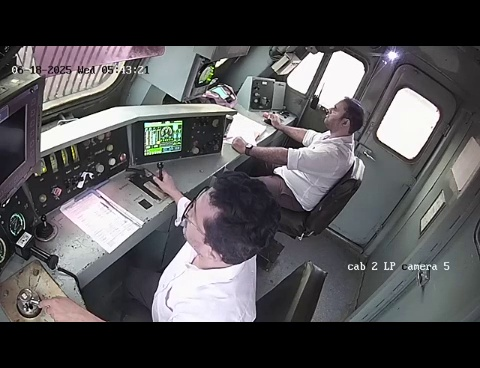brake_applied: (1, 253, 110, 322)
horn_inactive: (23, 204, 70, 250)
